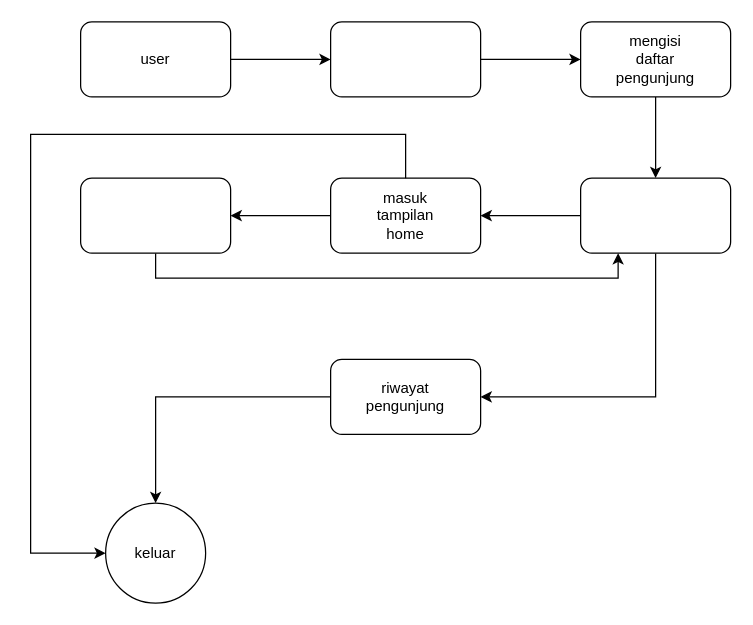
Some shapes in this 753 by 625 pixel diagram are drawn without their labels. The shapes that lost their labels are listed below. From the top down, each one's centre as x and y in pixels, then its label:
the point at 405,59: mengunjungi perpustakaan
the point at 155,215: mencari buku
the point at 655,215: kirim
